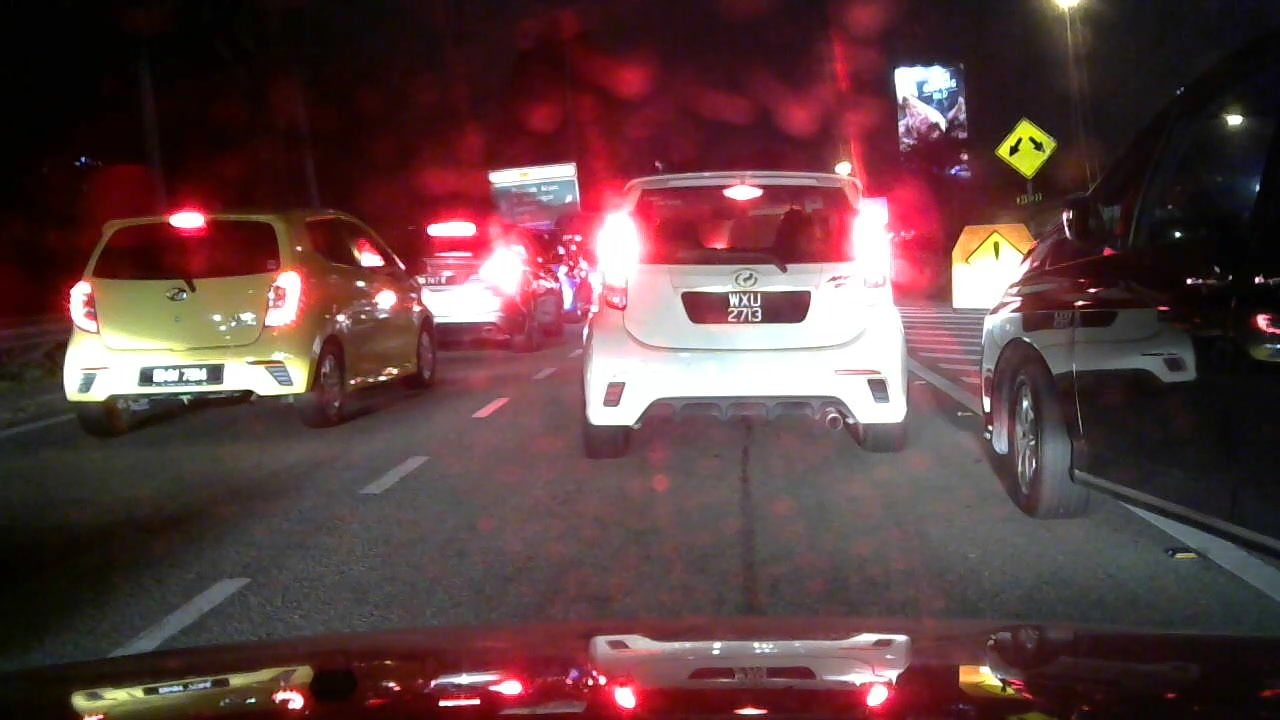Car: (974, 92, 1280, 579), (567, 154, 916, 464), (62, 202, 446, 429), (412, 206, 568, 353)
